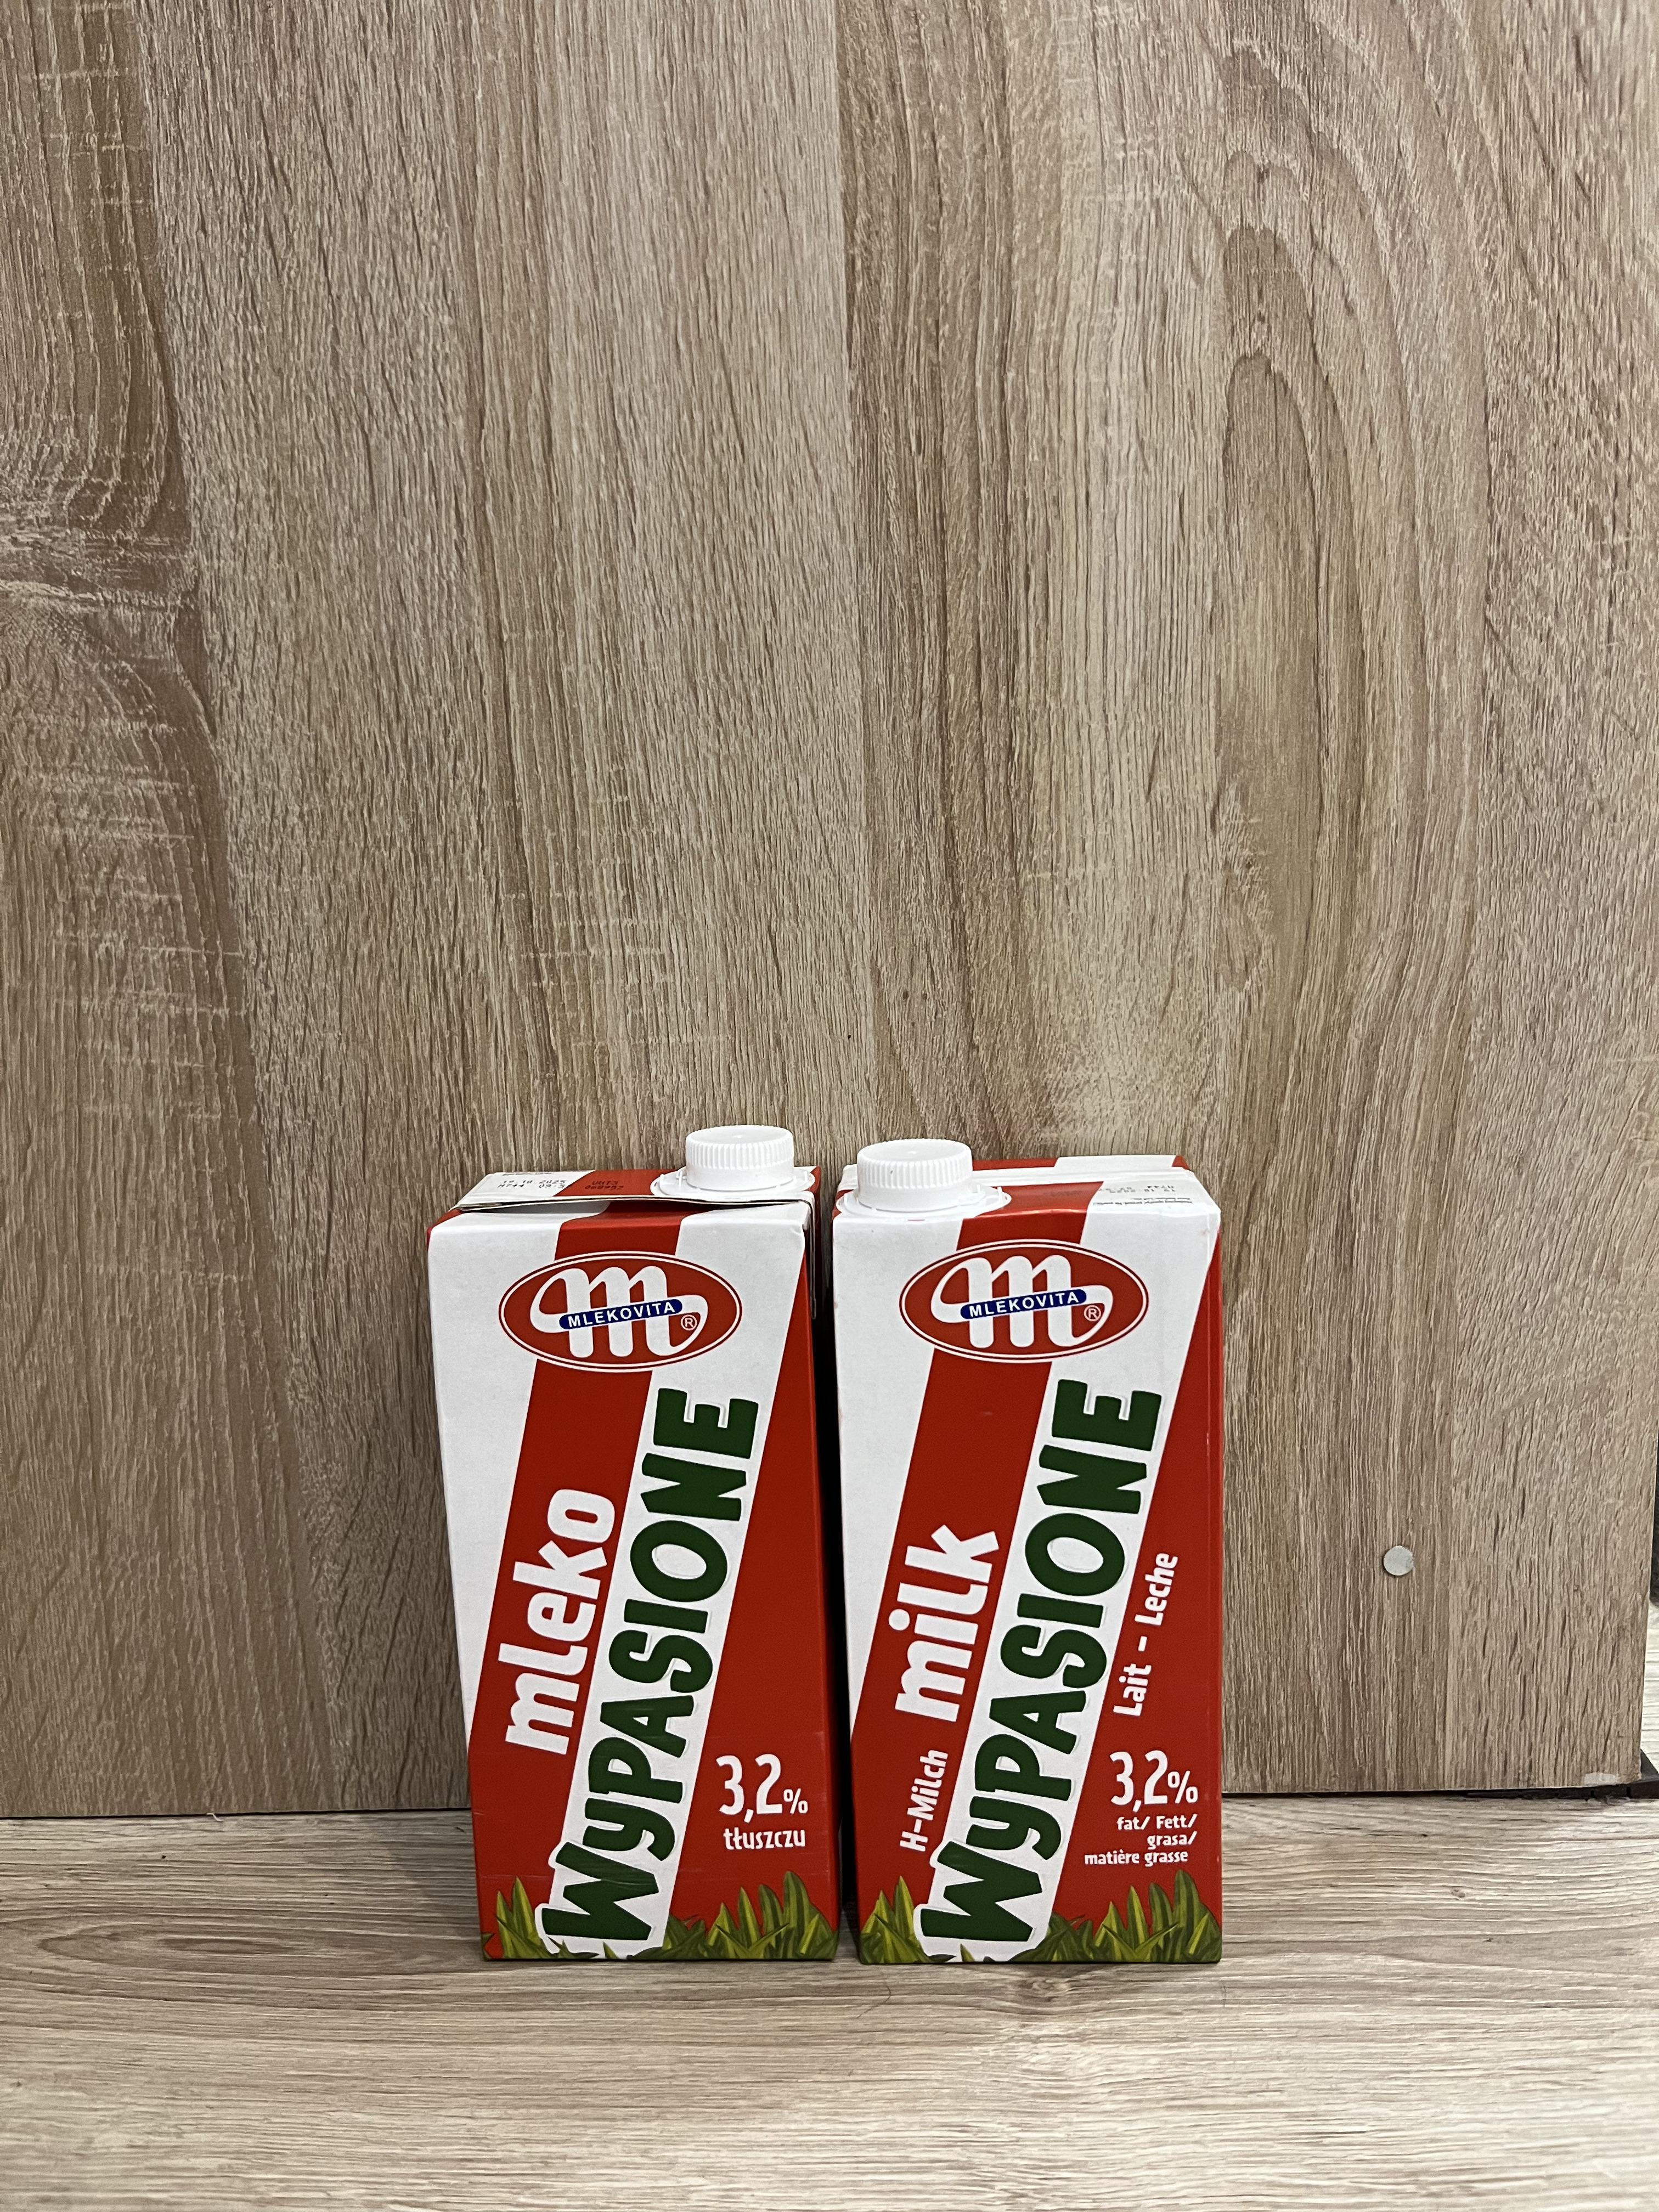Milk: (429, 1174, 847, 1975), (835, 1179, 1223, 1975)
